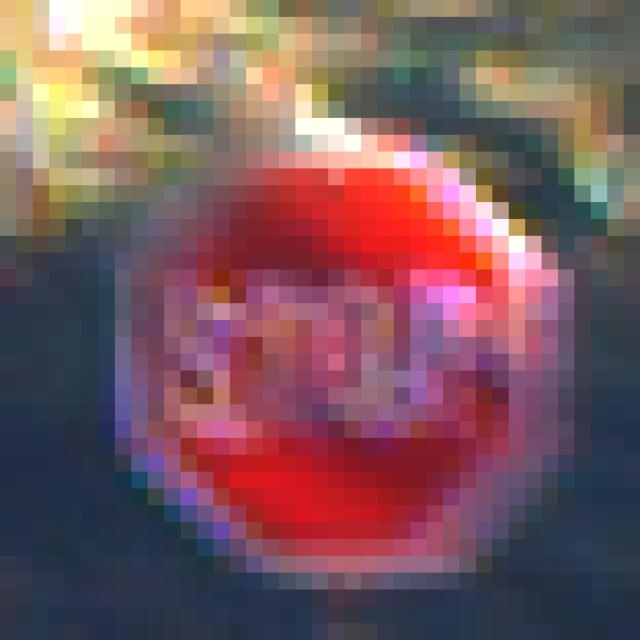STOP: (100, 85, 543, 540)
